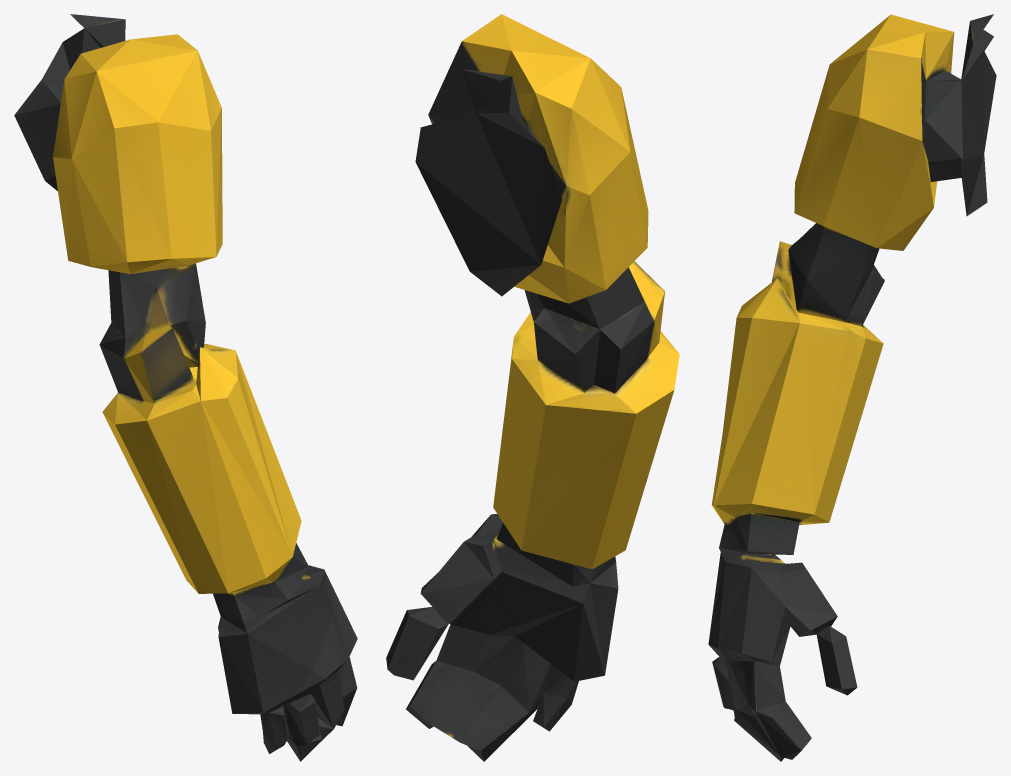
Rendered from SM_ChaserDebris_Arm_R.fbx.
3 views of the same model, side by side, from view 1: azimuth 30°, elevation 25°; view 2: azimuth 150°, elevation 25°; view 3: azimuth 270°, elevation 25° (orthographic). The views are drawn at different scales.
Visible parts, largest first — view 1: SM_ChaserDebris_Arm_R; view 2: SM_ChaserDebris_Arm_R; view 3: SM_ChaserDebris_Arm_R.
Part boxes in pixels (x1,y1,x2,y2): SM_ChaserDebris_Arm_R: (14, 14, 357, 761); SM_ChaserDebris_Arm_R: (386, 14, 679, 761); SM_ChaserDebris_Arm_R: (708, 14, 996, 761).
Size of the model in its own units: 19.89 by 56.5 by 21.42.
1 material, 1 textured.
